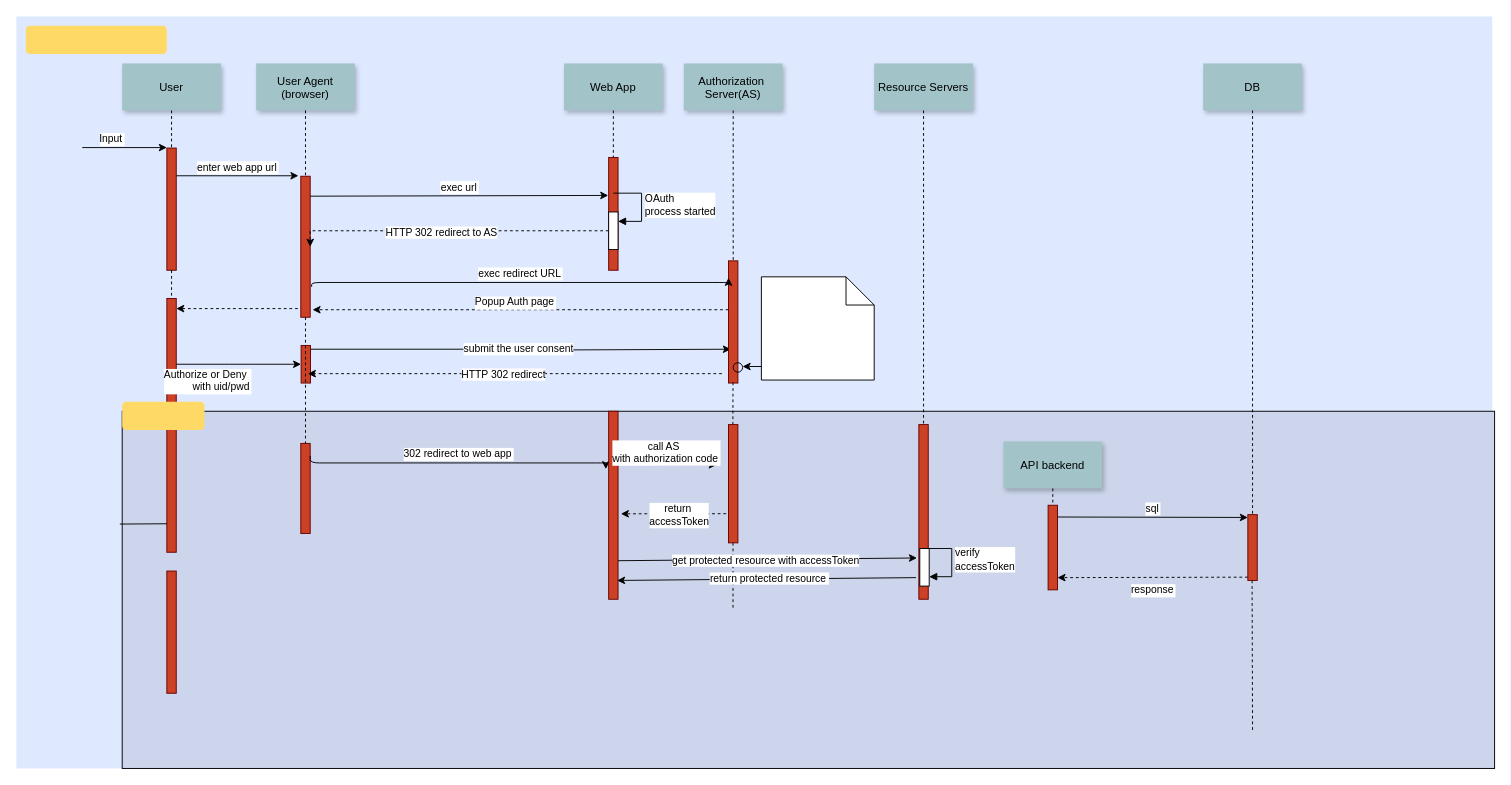
Some shapes in this 1511 by 785 pixel diagram are drawn without their labels. The centre of each missing label's shape, as x and y in pixels:
"- validation - generate authorization code" belongs at [817,328].
"opt" belongs at [163,415].
"rt submit_changes" belongs at [95,39].
